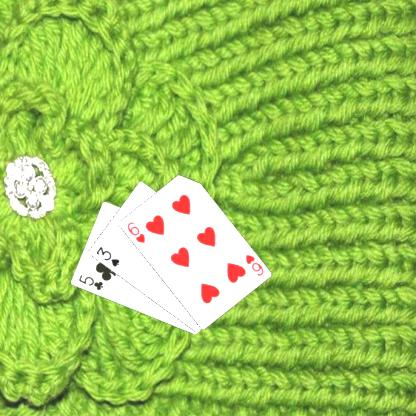3S: (92, 244, 120, 268)
5C: (75, 272, 104, 292)
6H: (242, 252, 264, 278), (124, 219, 146, 244)
